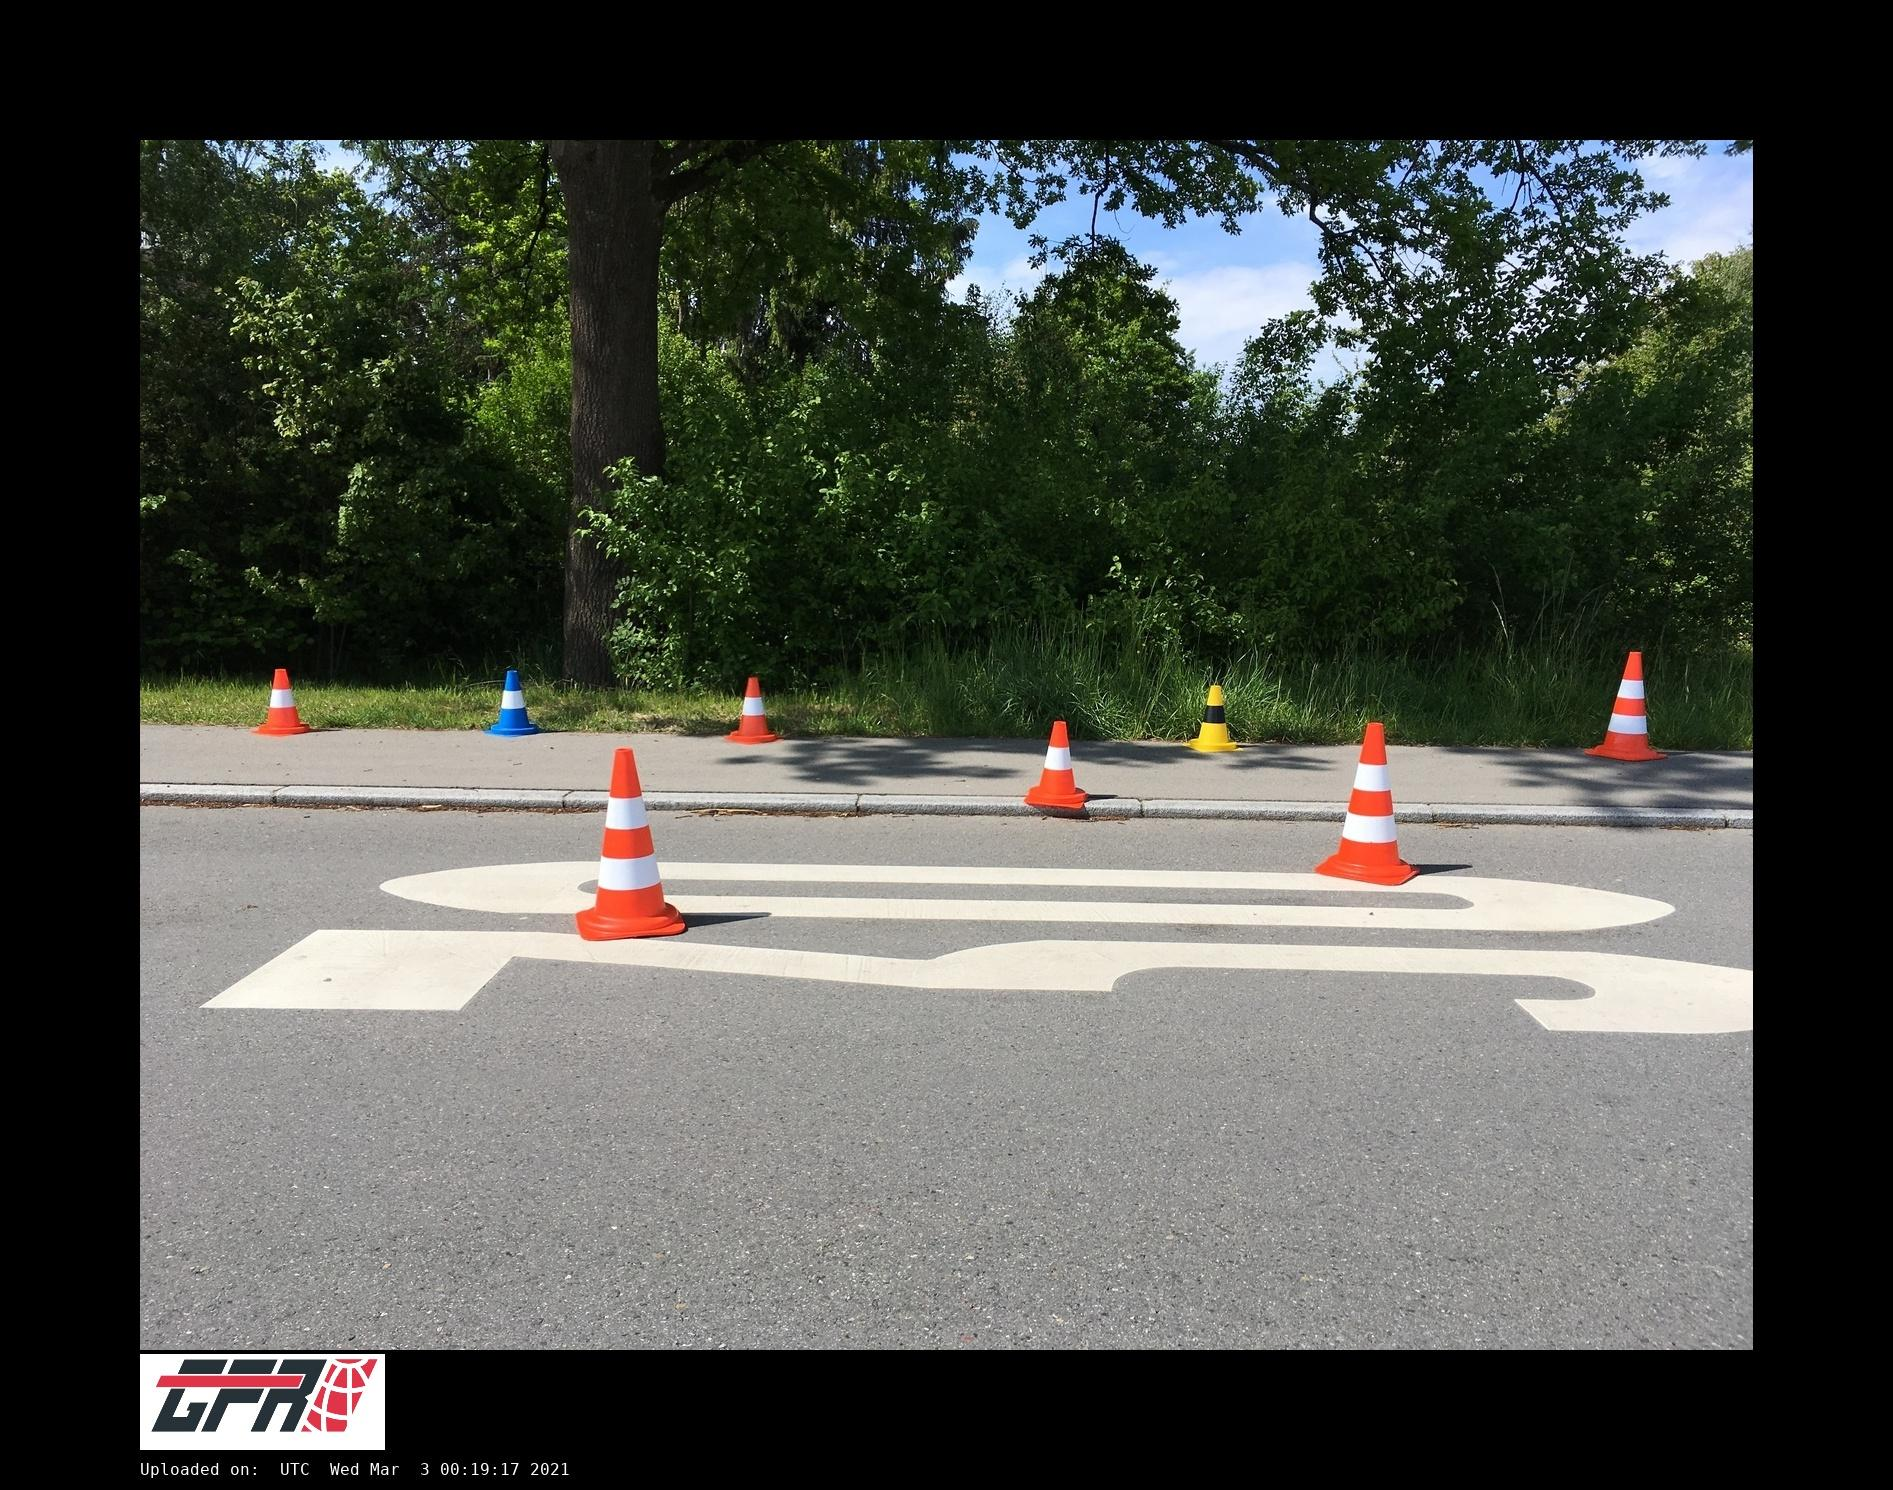blue_cone: (486, 670, 539, 737)
large_orange_cone: (576, 748, 684, 940), (1315, 722, 1421, 885), (1586, 651, 1667, 760)
orange_cone: (1023, 720, 1086, 810), (254, 670, 309, 734), (725, 677, 779, 743)
yellow_cone: (1185, 687, 1242, 753)
